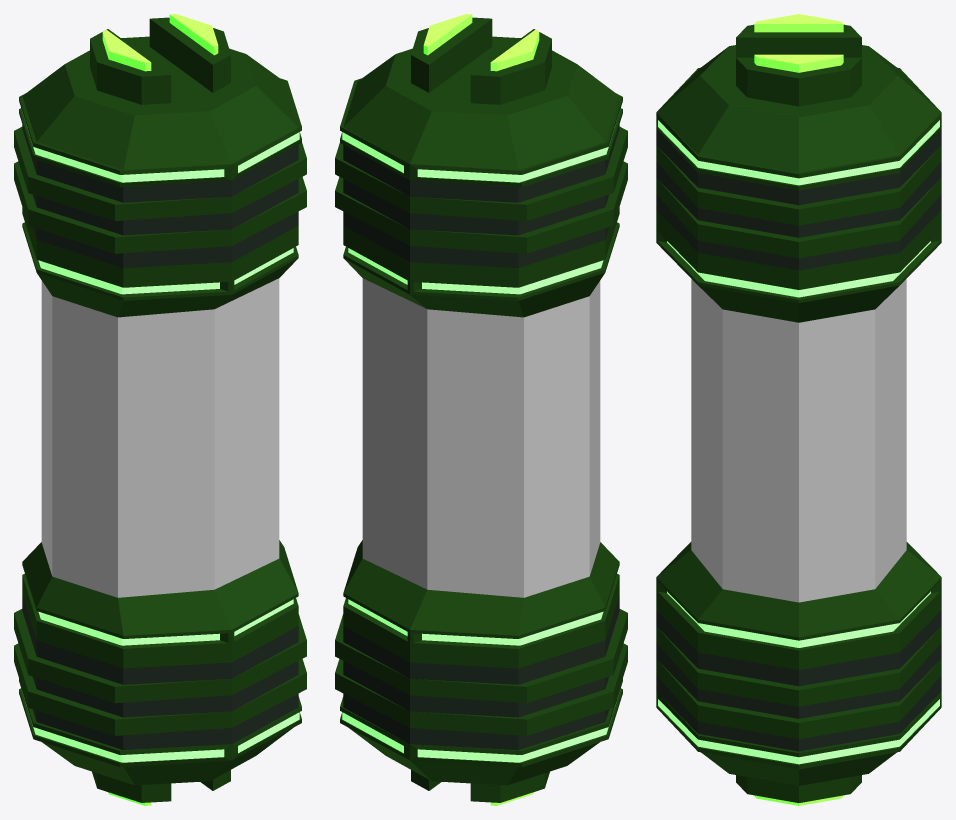
Rendered from health_pickup.fbx.
The picture shows the model from 3 angles, left to right: view 1: azimuth 30°, elevation 25°; view 2: azimuth 150°, elevation 25°; view 3: azimuth 270°, elevation 25°; orthographic projection.
Visible parts, largest first — view 1: base capsule; view 2: base capsule; view 3: base capsule.
Boxes of the visible parts, <box> form: base capsule: <box>14,14,306,805</box>; base capsule: <box>335,14,627,805</box>; base capsule: <box>656,14,941,805</box>.
Size of the model in its own units: 42.86 by 115 by 40.16.
